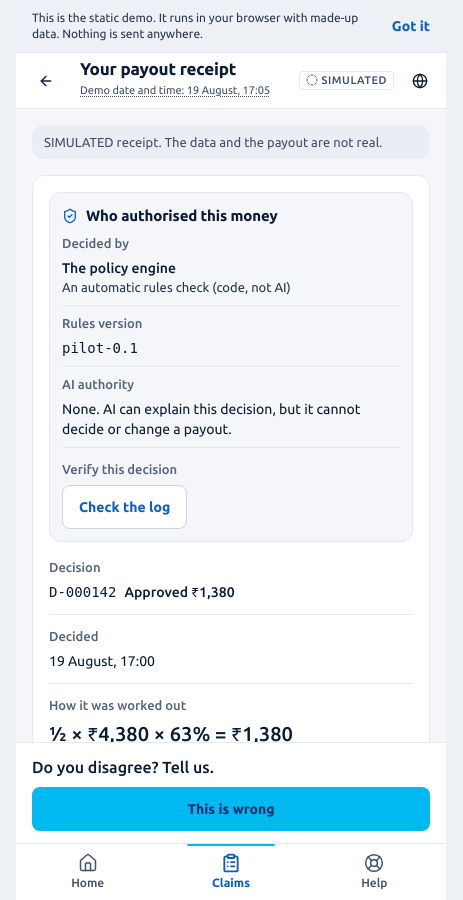
Check the log (AC-31) › shows the first broken entry and never hides it
Click the button with test id "receipt-check-log" at [125, 506], box top-left (62, 484), bottom-right (187, 528)
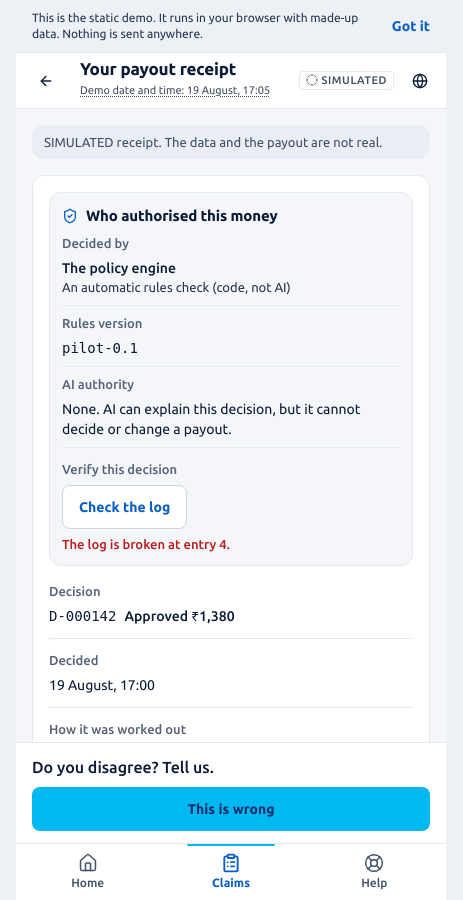
Now the text with test id "receipt-log-result" reads "The log is broken at entry 4.", box top-left (62, 536), bottom-right (230, 550)
